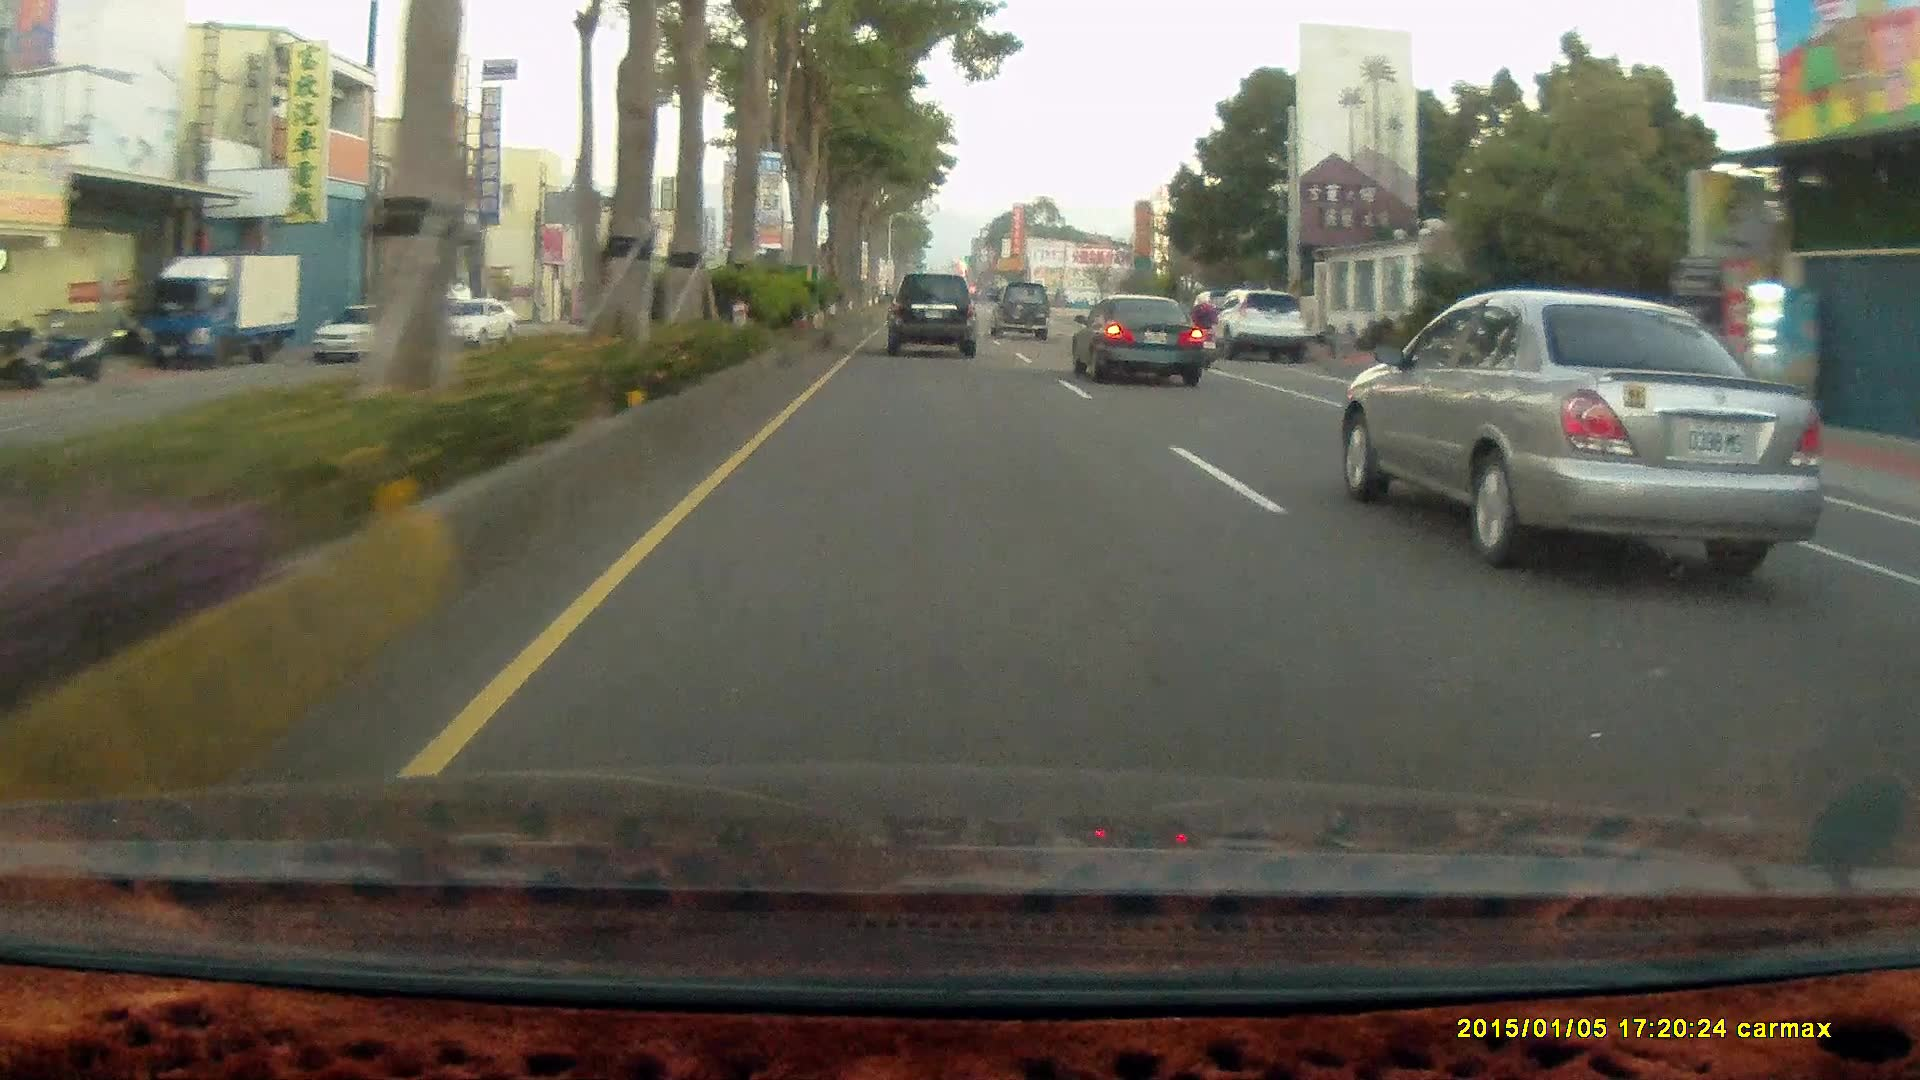rider: (1182, 292, 1221, 370)
vehicle: (1331, 291, 1821, 584), (138, 252, 303, 369), (139, 253, 306, 368), (1070, 296, 1210, 394), (1067, 292, 1204, 386), (883, 273, 979, 361), (1205, 287, 1309, 364), (884, 272, 975, 358), (1219, 292, 1309, 365), (311, 302, 418, 362), (314, 306, 421, 362), (425, 301, 516, 352), (989, 283, 1052, 346), (988, 279, 1051, 340)
